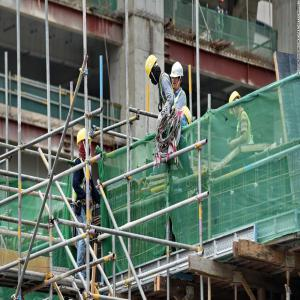white: (171, 61, 185, 91)
yellow: (77, 128, 92, 158), (146, 55, 160, 83), (229, 91, 242, 116)
